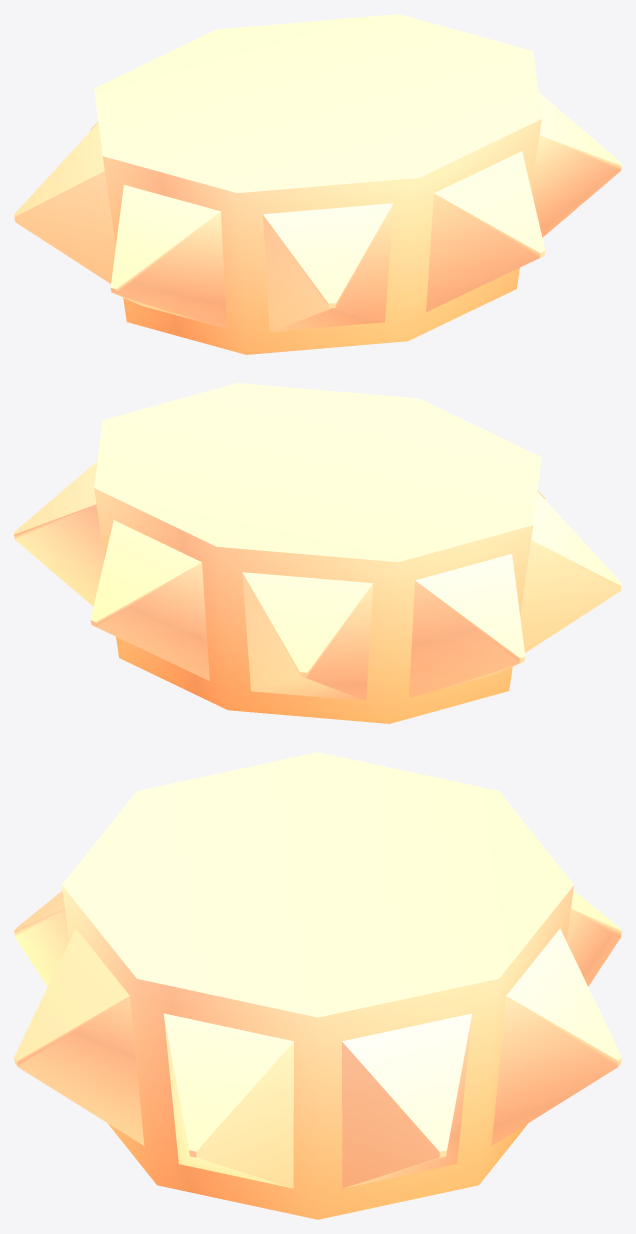
File: wood_guard_064_004.glb
3 views of the same model, one above another, from view 1: azimuth 30°, elevation 25°; view 2: azimuth 150°, elevation 25°; view 3: azimuth 270°, elevation 25° (orthographic). The views are drawn at different scales.
Visible parts, largest first — view 1: wood_guard_064.004; view 2: wood_guard_064.004; view 3: wood_guard_064.004.
Part boxes in pixels (x1,y1,x2,y2): wood_guard_064.004: (14, 14, 621, 354); wood_guard_064.004: (14, 383, 621, 723); wood_guard_064.004: (14, 752, 621, 1219).
Bounding box in the file's own units: 6.23 × 2 × 5.08.
1 material, 1 textured.
